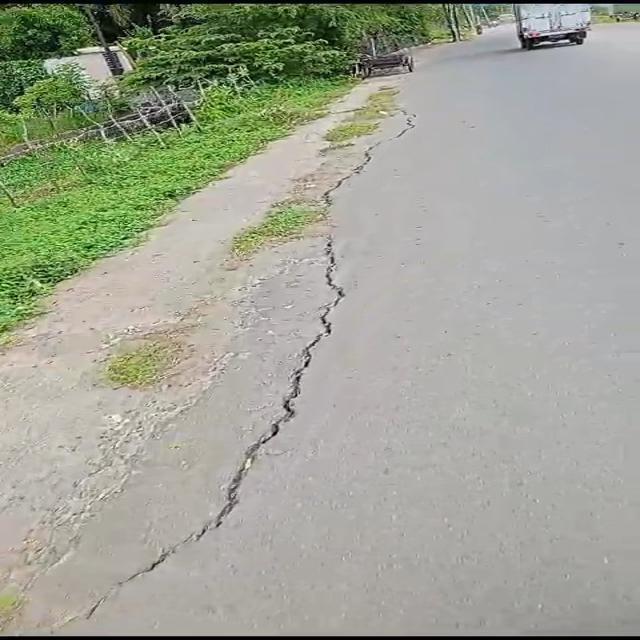Memanjang: (54, 109, 444, 635)
